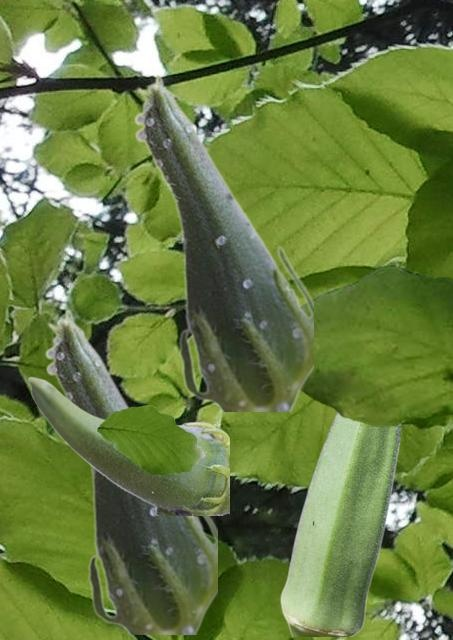okra: (133, 73, 312, 410), (44, 309, 216, 633), (27, 376, 228, 514), (280, 412, 402, 635)
